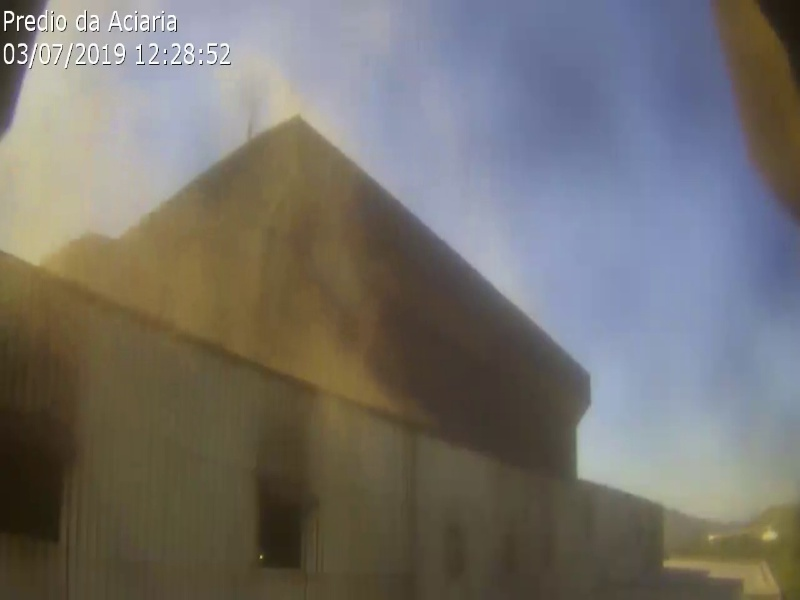Galpao: (1, 234, 592, 600)
Janela: (257, 471, 316, 576)
Pessimo: (194, 202, 314, 279), (27, 194, 102, 279), (1, 154, 88, 222), (98, 219, 200, 263), (16, 150, 94, 205), (88, 248, 159, 297), (165, 261, 249, 302), (258, 321, 335, 360)
